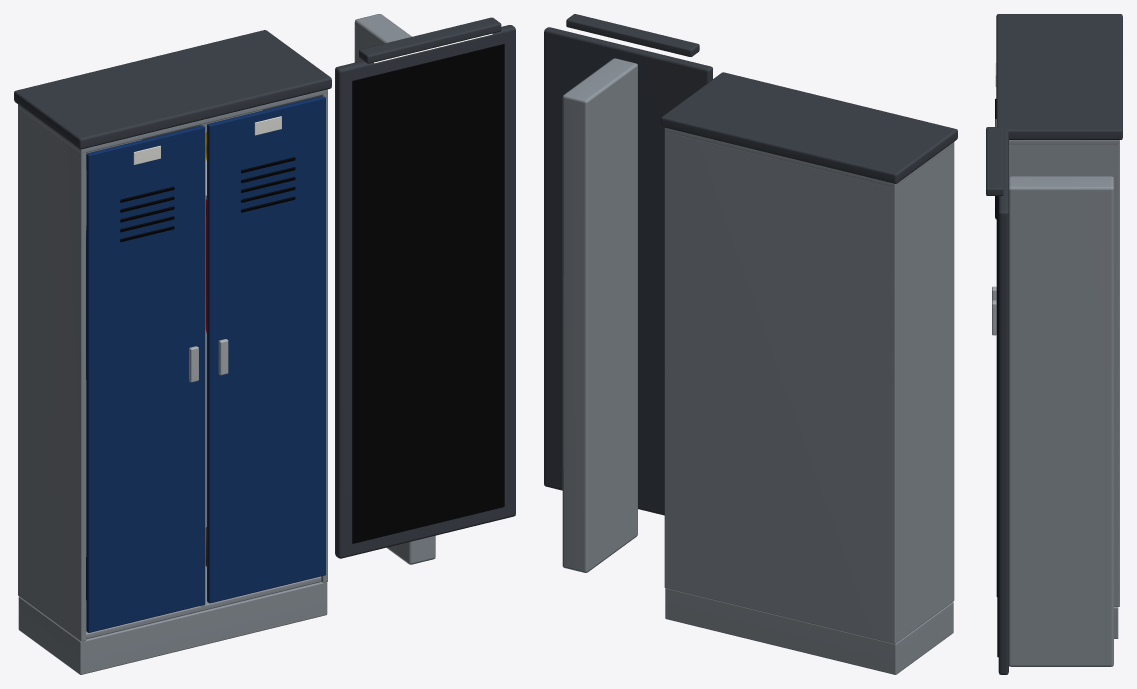
File: locker.glb
3 renders of one model, left to right at view 1: azimuth 30°, elevation 25°; view 2: azimuth 150°, elevation 25°; view 3: azimuth 270°, elevation 25°, orthographic. The views are drawn at different scales.
Parts seen in each view (by area): view 1: Body, Door_A, Door_B; view 2: Body; view 3: Body, Door_B.
Boxes of the visible parts, left/top/right/bottom form: Body: left=14, top=14, right=515, bottom=674; Door_A: left=86, top=125, right=204, bottom=632; Door_B: left=207, top=96, right=325, bottom=603; Body: left=544, top=14, right=957, bottom=674; Body: left=986, top=14, right=1122, bottom=674; Door_B: left=992, top=119, right=997, bottom=596.
Bounding box in the file's own units: 1.63 × 1.98 × 0.465.
